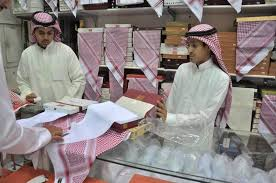middle_eastern_male: (188, 34, 220, 73), (37, 24, 60, 49)
